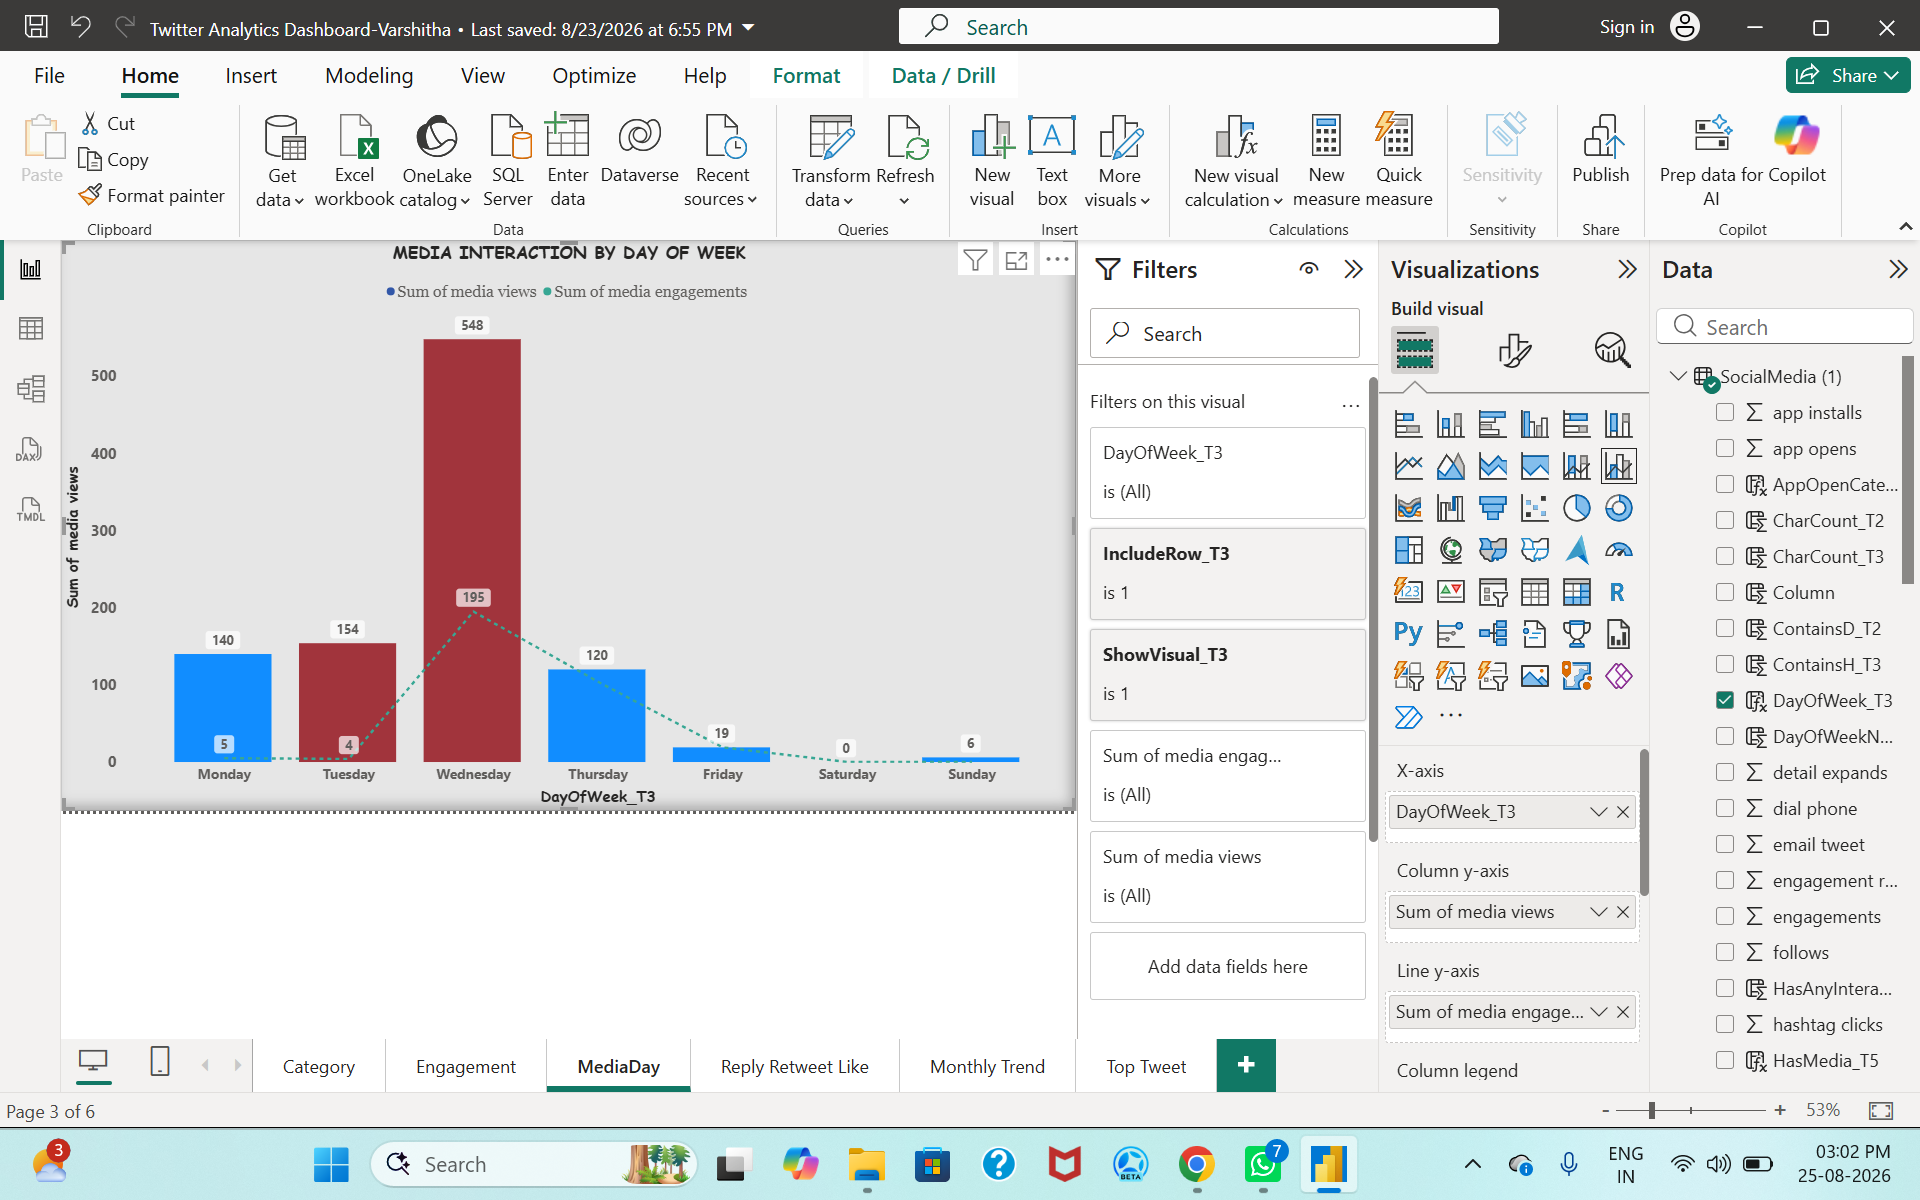

This screenshot's page, from the dashboard's own definition file:
{"tool":"powerbi","page":{"name":"MediaDay","canvas":[1280,720],"ordinal":2},"visuals":[{"type":"lineClusteredColumnComboChart","title":"MEDIA INTERACTION BY DAY OF WEEK","fields":{"Category":["SocialMedia (1).DayOfWeek_T3"],"Y":["Sum(SocialMedia (1).media views)"],"Y2":["Sum(SocialMedia (1).media engagements)"]},"box":[0,0,1279.4,720],"z":0}]}

Visuals, with their boxes on the page's 1280x720 design canvas (x1, y1, x2, y2). These are canvas units, not pixel positions in the 1920x1200 screenshot, which may show the page scaled, cropped or inside an application window:
"MEDIA INTERACTION BY DAY OF WEEK" lineClusteredColumnComboChart: region(0, 0, 1279, 720)
